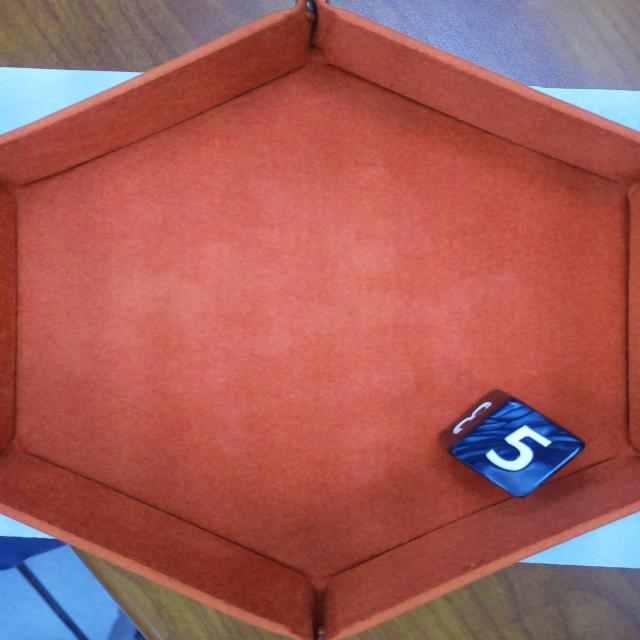dice: (452, 402, 583, 497)
